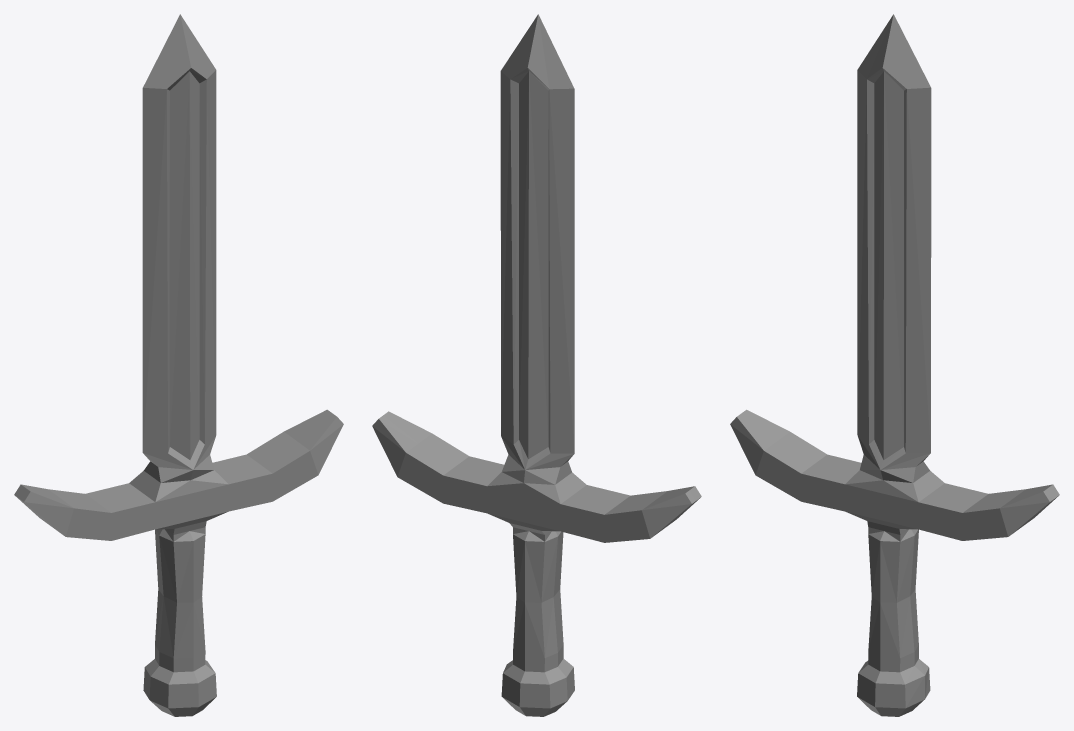
3 renders of one model, left to right at view 1: azimuth 30°, elevation 25°; view 2: azimuth 150°, elevation 25°; view 3: azimuth 330°, elevation 25°, orthographic.
Bounding box in the file's own units: 23.55 × 49.12 × 4.75.
